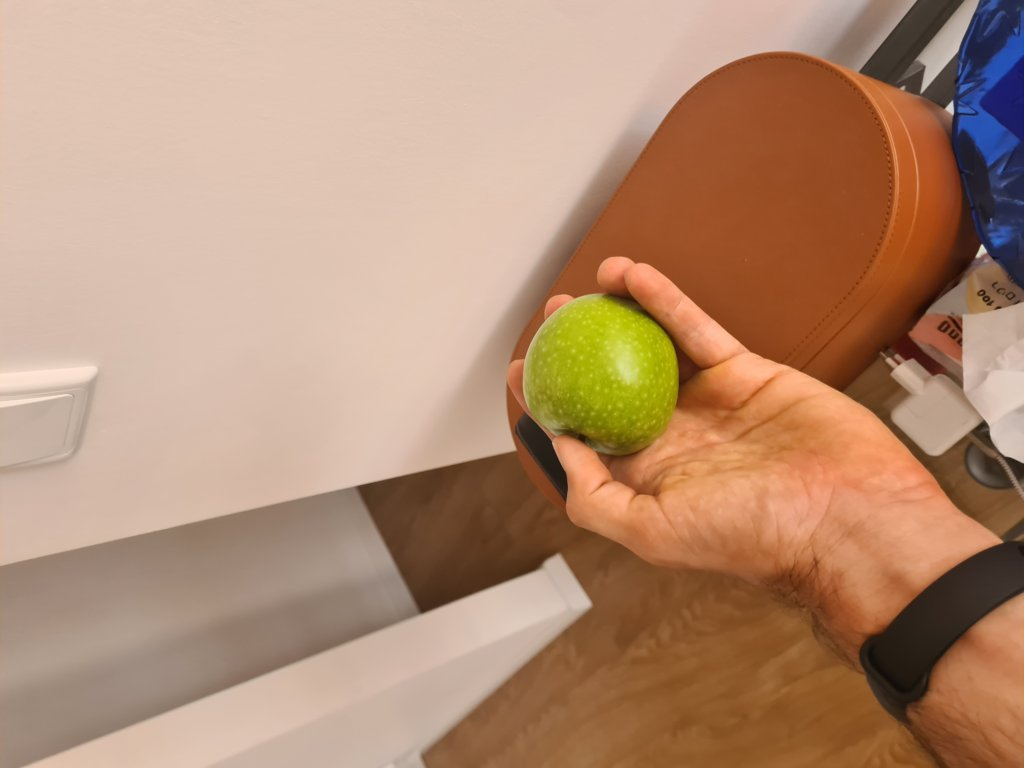apple: (534, 279, 671, 461)
